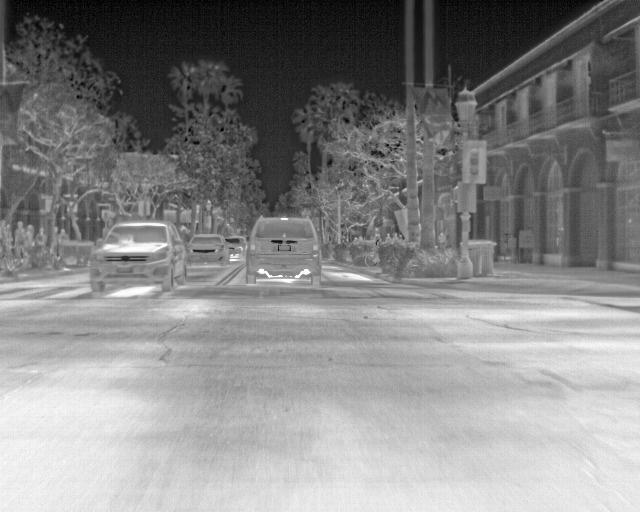bicycle: (88, 219, 188, 295), (242, 212, 322, 281), (187, 232, 229, 266), (227, 239, 243, 258)
empty: (13, 222, 26, 253), (22, 222, 37, 248)
